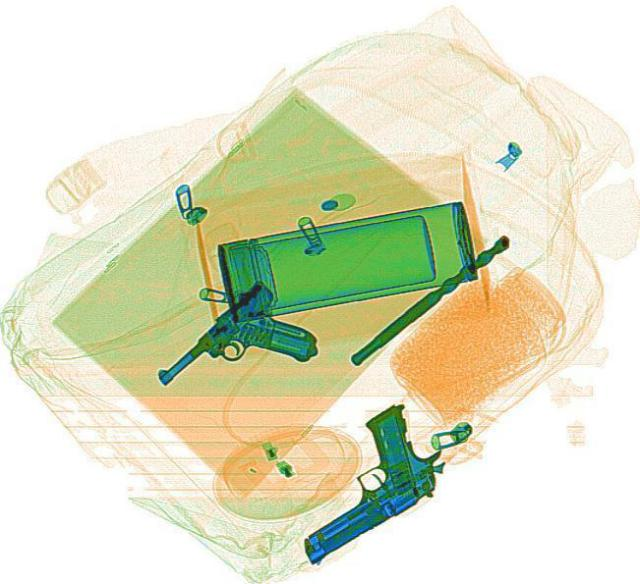Gun: (248, 399, 462, 562), (149, 275, 335, 433)
